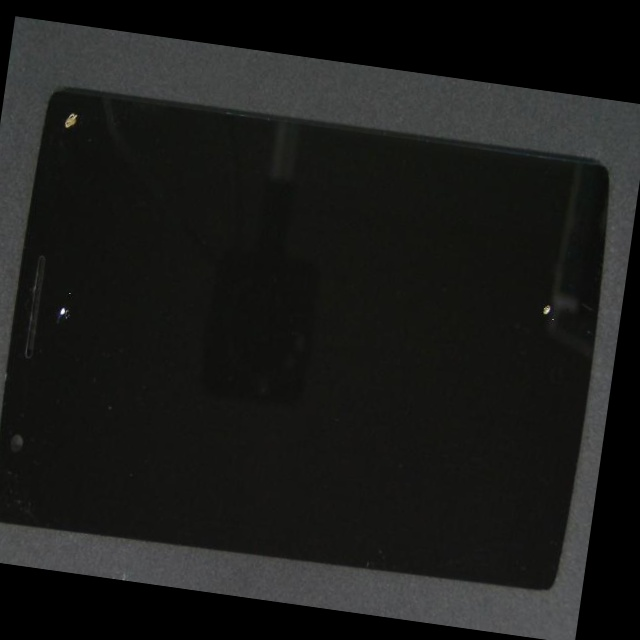stain: (234, 173, 634, 461), (0, 144, 111, 471)
